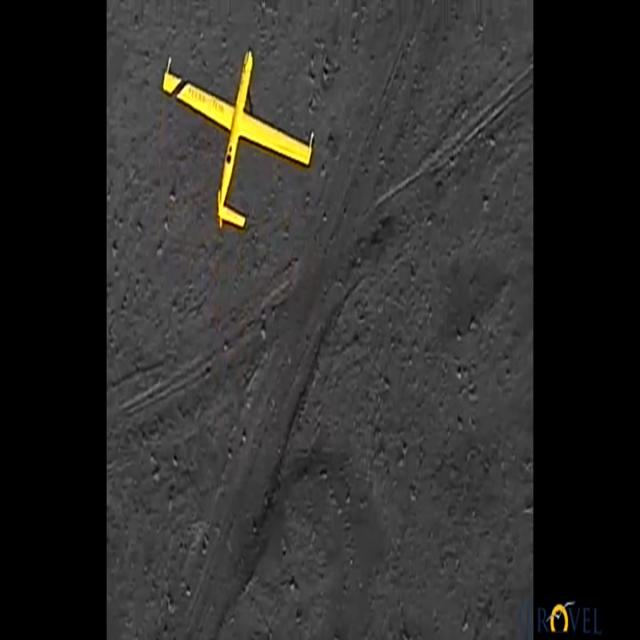iha: (160, 38, 314, 228)
